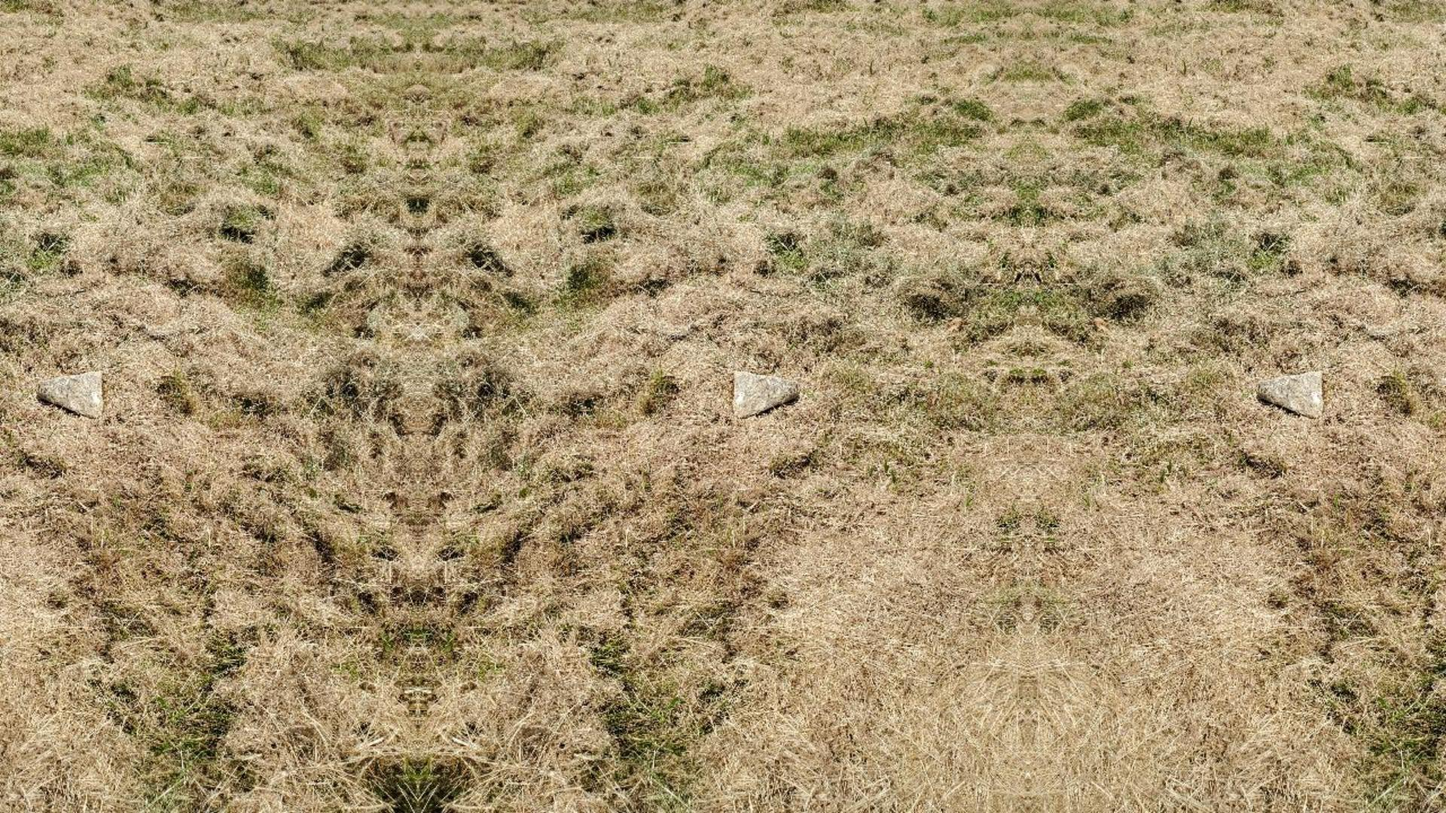rock: (733, 371, 798, 417), (1257, 371, 1322, 417), (38, 371, 102, 417)
